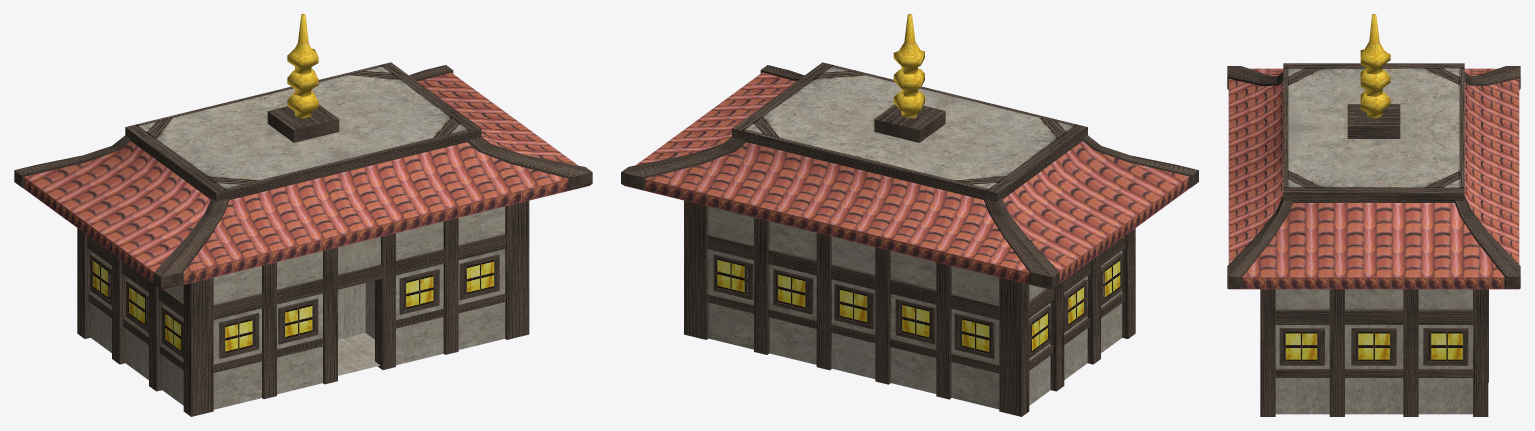
File: casa-oriental-03.fbx
The picture shows the model from 3 angles, left to right: view 1: azimuth 30°, elevation 25°; view 2: azimuth 150°, elevation 25°; view 3: azimuth 270°, elevation 25°; orthographic projection.
Visible parts, largest first — view 1: Cube.000, Cube.002, Cube.001; view 2: Cube.000, Cube.002; view 3: Cube.000, Cube.002.
Part boxes in pixels (left/top/right/bottom): Cube.000: left=14, top=14, right=592, bottom=416; Cube.002: left=91, top=258, right=495, bottom=353; Cube.001: left=338, top=281, right=380, bottom=375; Cube.000: left=621, top=14, right=1198, bottom=416; Cube.002: left=715, top=258, right=1121, bottom=353; Cube.000: left=1227, top=14, right=1520, bottom=416; Cube.002: left=1283, top=332, right=1465, bottom=361.
Bounding box in the file's own units: 9.14 × 6.46 × 5.37.
